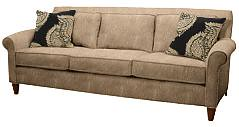sofa: (2, 4, 237, 124)
